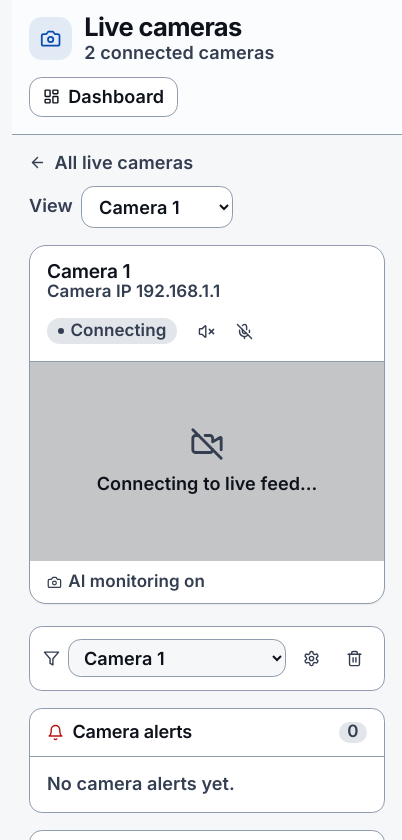
Scenario: camera alerts and event history › shows history for the focused camera and follows live camera selection
Expected: the dropdown named "Filter events by camera" shows "Camera 1", [68,639,286,677]
Expected: the text "Kitchen fire" is not shown
Select "Camera 2" in the dropdown named "Choose live camera". click: (157, 207)
box: [81,186,233,228]
(page scrolled)
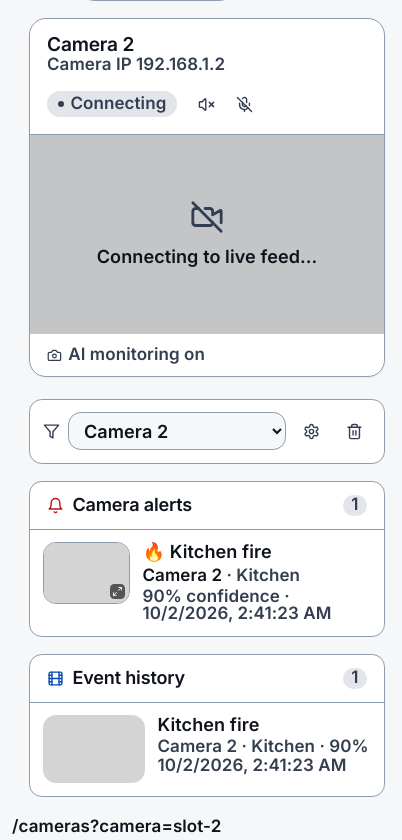
Expected: the dropdown named "Filter events by camera" shows "Camera 2", [68,412,286,450]
Expected: the text "🔥 Kitchen fire" is shown 2 times, [142,542,272,563]; [158,715,259,736]
